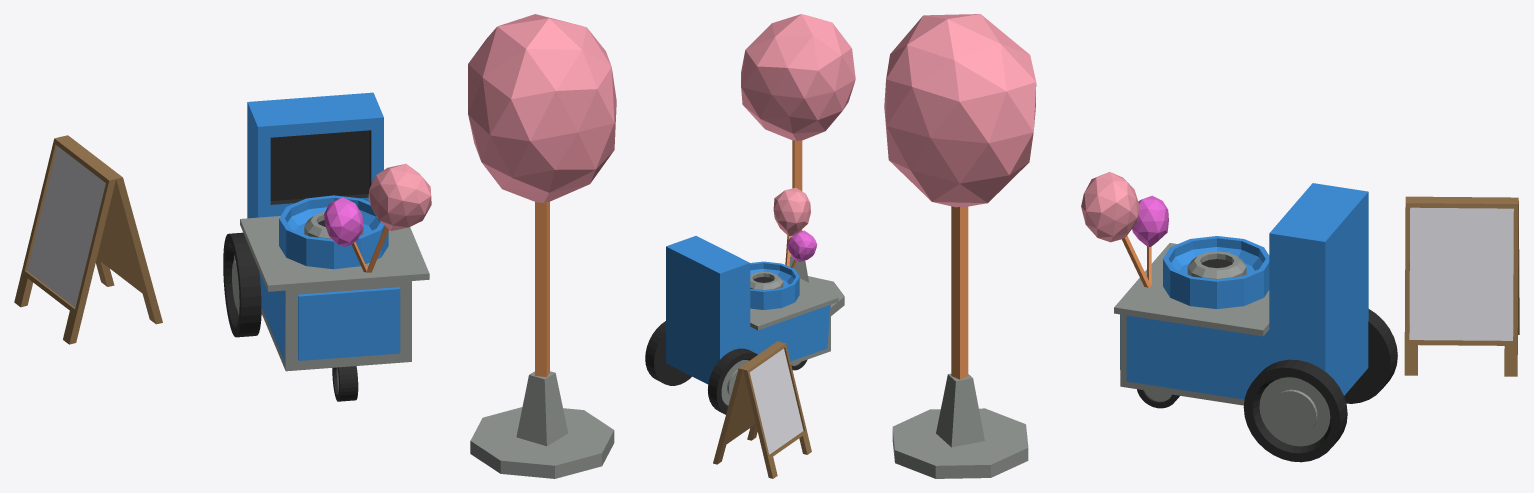
File: cloudmachine.fbx
The picture shows the model from 3 angles, left to right: view 1: azimuth 30°, elevation 25°; view 2: azimuth 150°, elevation 25°; view 3: azimuth 270°, elevation 25°; orthographic projection. The views are drawn at different scales.
Visible parts, largest first — view 1: cloudmachine; view 2: cloudmachine; view 3: cloudmachine.
Boxes of the visible parts, x1,y1,x2,y2 form: cloudmachine: (14,14,616,478); cloudmachine: (645,14,855,478); cloudmachine: (884,14,1519,478).
Size of the model in its own units: 129 by 169 by 225.
